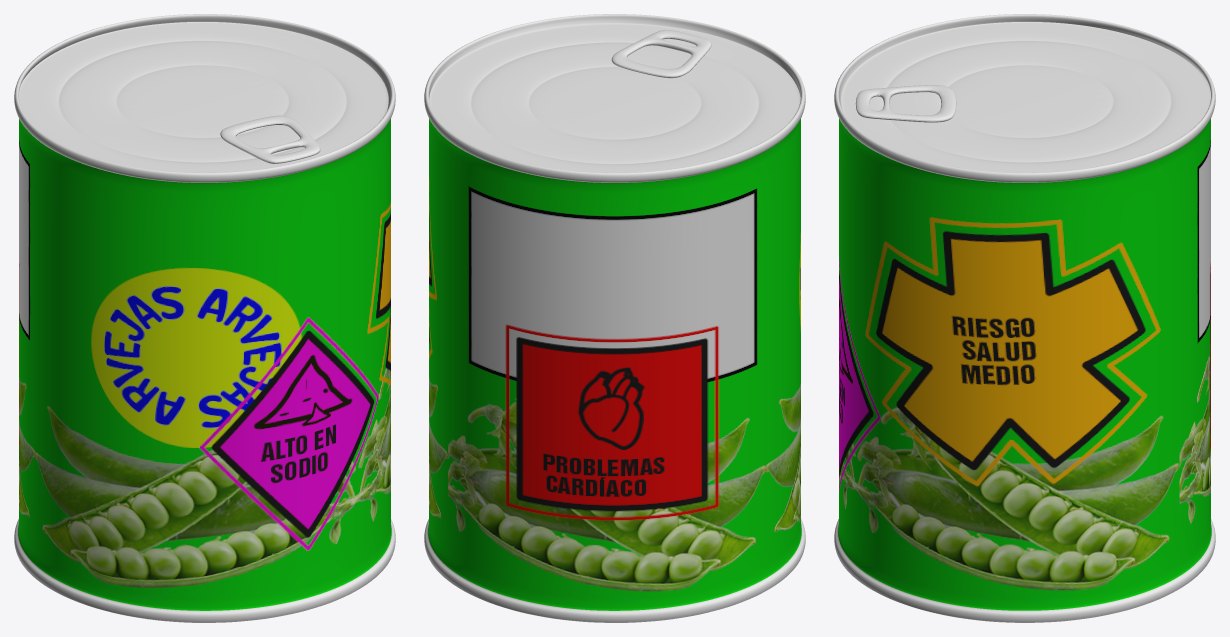
The model's file is Arvejas.fbx.
3 renders of one model, left to right at view 1: azimuth 30°, elevation 25°; view 2: azimuth 150°, elevation 25°; view 3: azimuth 270°, elevation 25°, orthographic.
Parts seen in each view (by area): view 1: Plane.012; view 2: Plane.012; view 3: Plane.012.
Boxes of the visible parts, bbox=[...] form: Plane.012: bbox=[14, 14, 395, 622]; Plane.012: bbox=[424, 14, 805, 622]; Plane.012: bbox=[834, 14, 1215, 622].
Bounding box in the file's own units: 25.48 × 33.19 × 25.48.
Materials: 2 (1 with a texture image).
